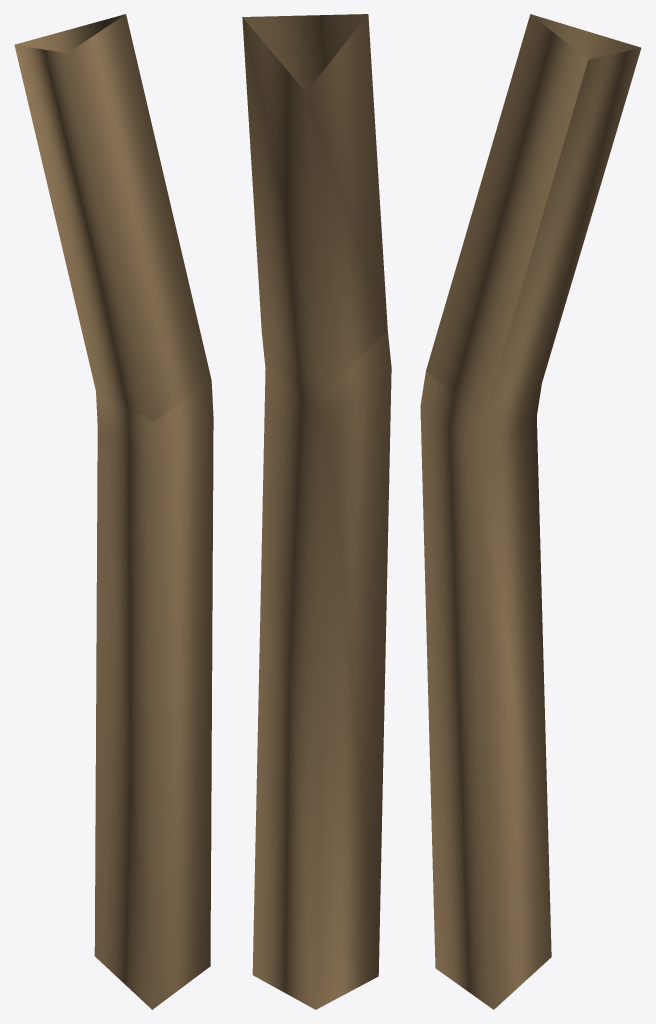
The picture shows the model from 3 angles, left to right: view 1: azimuth 30°, elevation 25°; view 2: azimuth 150°, elevation 25°; view 3: azimuth 270°, elevation 25°; orthographic projection. The views are drawn at different scales.
Parts seen in each view (by area): view 1: polySurface15; view 2: polySurface15; view 3: polySurface15.
Boxes of the visible parts, left/top/right/bottom form: polySurface15: left=14, top=14, right=213, bottom=1009; polySurface15: left=242, top=14, right=391, bottom=1009; polySurface15: left=420, top=14, right=641, bottom=1009.
Bounding box in the file's own units: 5.63 × 40.1 × 8.59.
